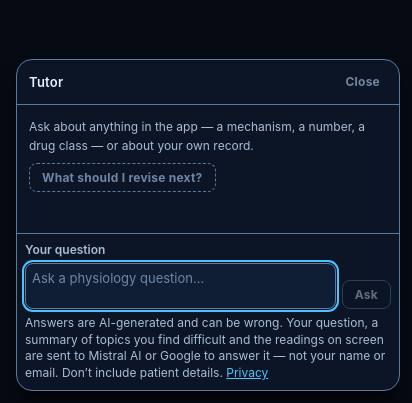
Test: ChatPanel retry › offers a Retry button alongside an error
Type "What is preload?" into the text box labelled "Your question".
click(180, 286); type("What is preload?")  # box [25,263,336,309]
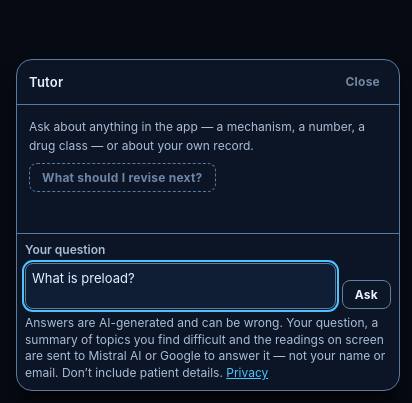
Click the button "Ask".
click(366, 294)  # box [342,280,391,309]
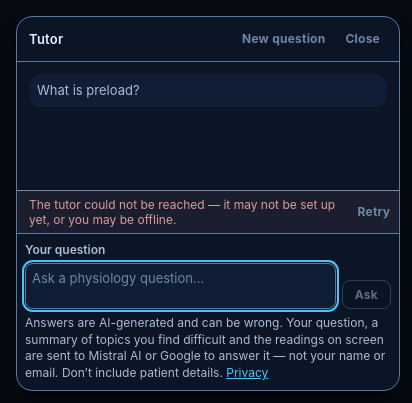
Result: the button "Retry" is shown at [350,198,387,226]
